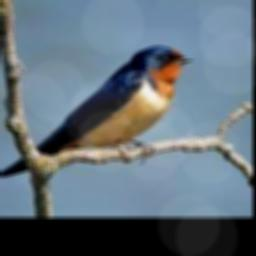Swallow: (0, 45, 194, 200)
